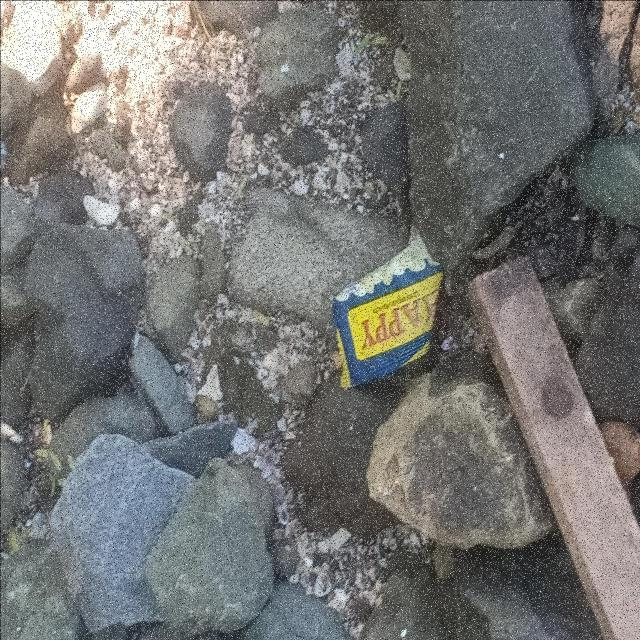plastic_waste: (329, 235, 445, 392)
